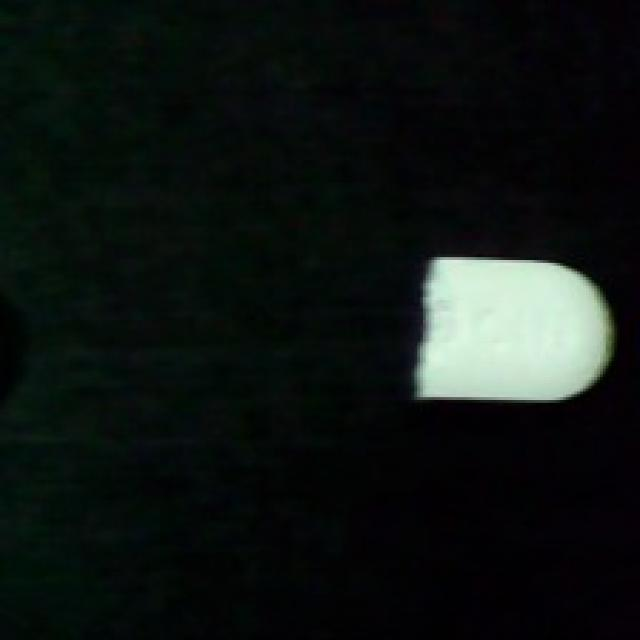defected: (411, 243, 620, 406)
